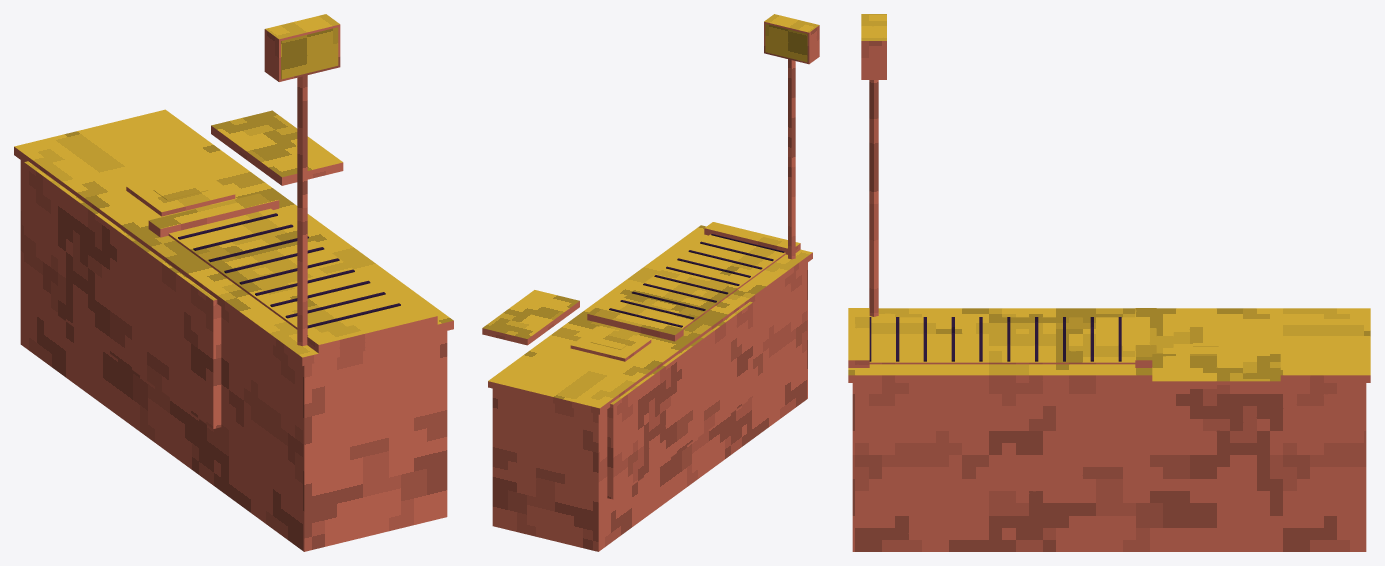
The model's file is checkout_CompleteSet.fbx.
The picture shows the model from 3 angles, left to right: view 1: azimuth 30°, elevation 25°; view 2: azimuth 150°, elevation 25°; view 3: azimuth 270°, elevation 25°; orthographic projection. The views are drawn at different scales.
Parts seen in each view (by area): view 1: checkout, checkout_belt, checkout_lamp; view 2: checkout, checkout_belt, checkout_lamp; view 3: checkout, checkout_belt.
Part boxes in pixels (<box>): checkout: <box>14,14,453,551</box>; checkout_belt: <box>178,213,400,328</box>; checkout_lamp: <box>153,27,338,200</box>; checkout: <box>482,14,819,551</box>; checkout_belt: <box>609,234,784,327</box>; checkout_lamp: <box>591,23,807,349</box>; checkout: <box>848,14,1370,551</box>; checkout_belt: <box>869,317,1121,361</box>.
Bounding box in the file's own units: 110 × 240 × 244.
